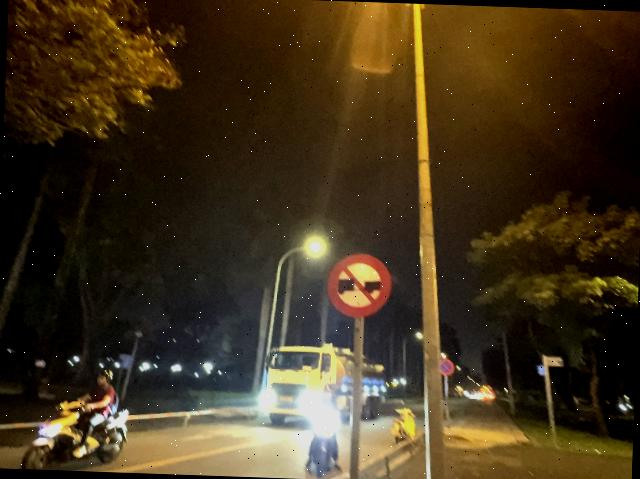cam-xe-somi-romooc: (326, 252, 394, 318)
